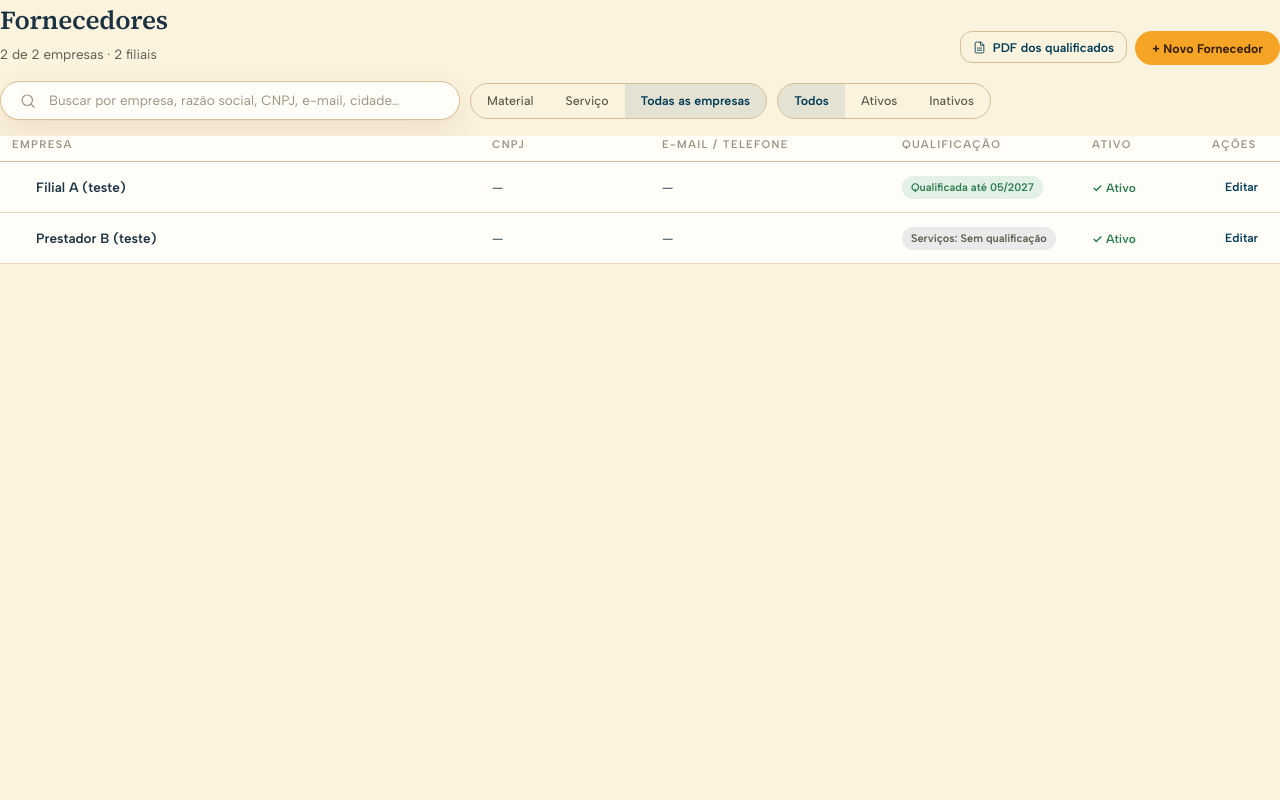
Scenario: D613 §2 — a ficha da empresa, aberta da gaveta da filial › as cinco categorias, cada uma com o selo; o botão diz Requalificar onde há histórico
The image size is (1280, 800).
Click the button "Editar" in the row of "Filial A (teste)" at x=1242, y=187, box [1215,173,1268,201]
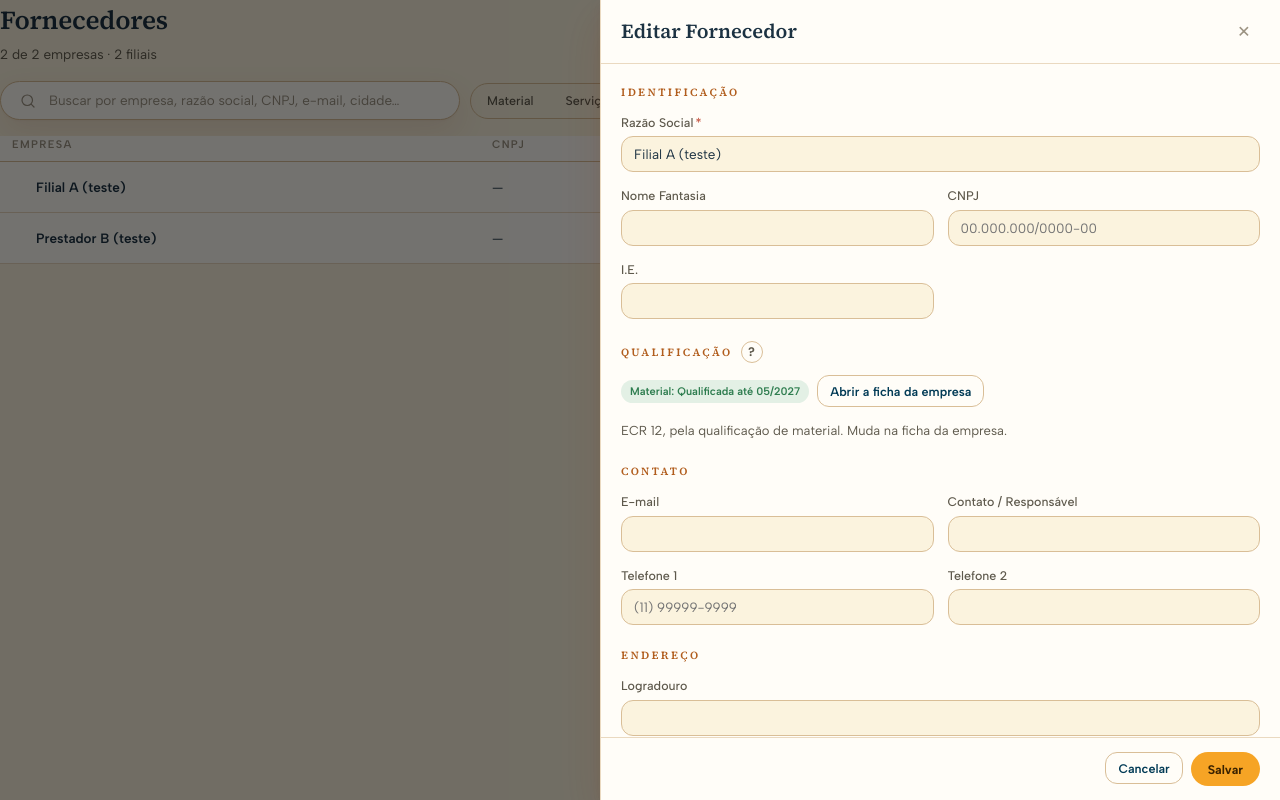
Click the button "Abrir a ficha da empresa" at x=901, y=391, box [817,375,984,407]
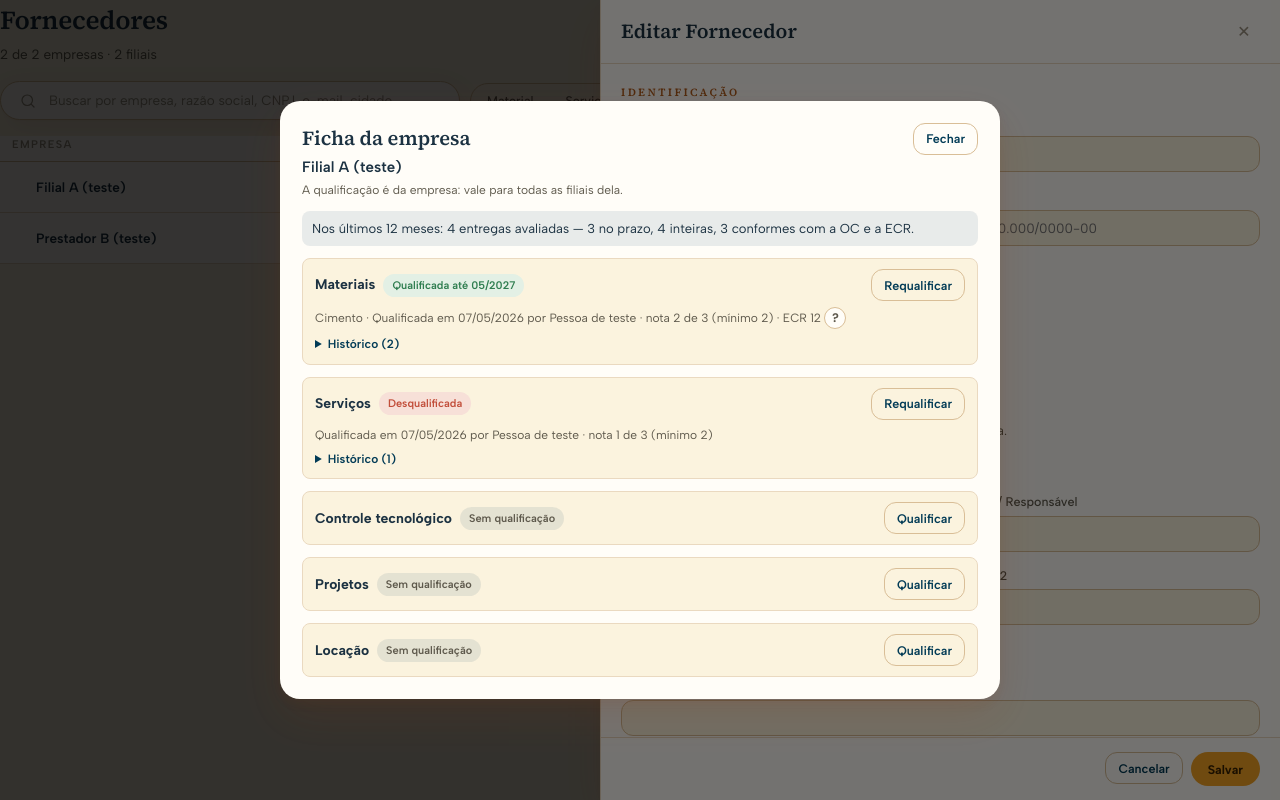
expect the element that starts with "Materiais" shows "Qualificada até 05/2027": met, box [392,279,515,292]
expect the element that starts with "Serviços" shows "Desqualificada": met, box [388,397,462,410]
expect the element showing "Projetos Sem qualificação Qualificar" is shown: met, box [302,558,978,612]
